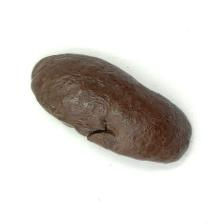NG: (76, 115, 120, 150)
